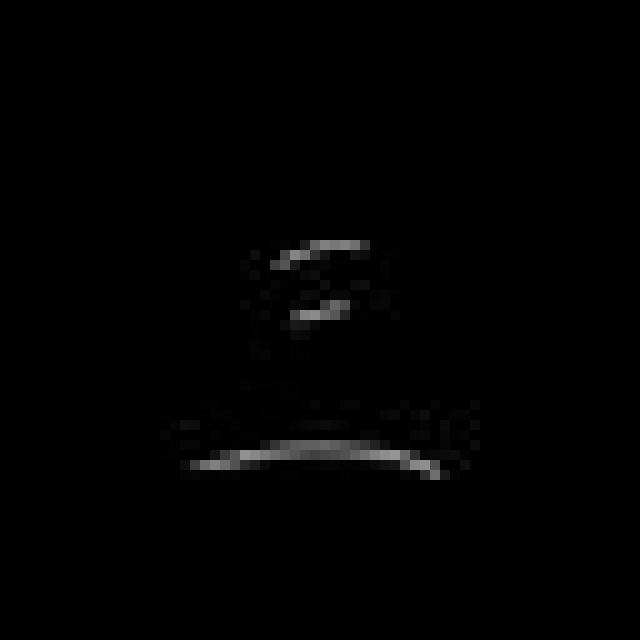3 -three-: (178, 219, 472, 496)
